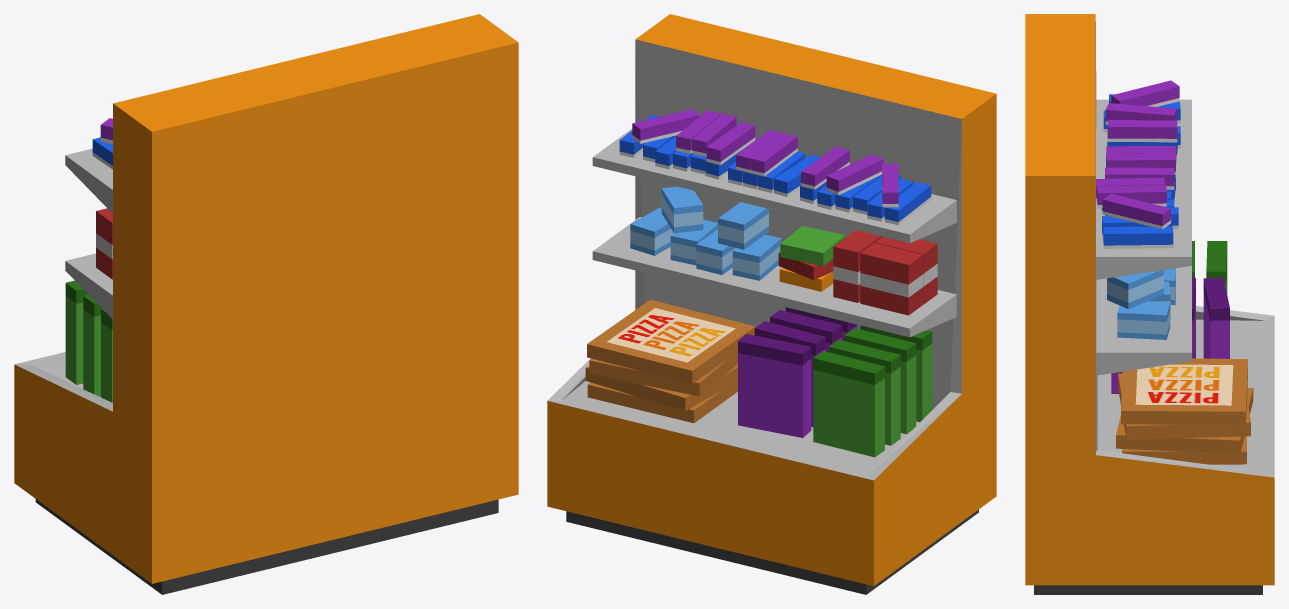
File: Shelf_2.fbx
The picture shows the model from 3 angles, left to right: view 1: azimuth 30°, elevation 25°; view 2: azimuth 150°, elevation 25°; view 3: azimuth 270°, elevation 25°; orthographic projection. The views are drawn at different scales.
Parts seen in each view (by area): view 1: Cube.007; view 2: Cube.007; view 3: Cube.007.
Boxes of the visible parts, x1,y1,x2,y2 form: Cube.007: (14, 14, 518, 594); Cube.007: (547, 14, 996, 594); Cube.007: (1025, 14, 1274, 594).
Bounding box in the file's own units: 807 × 526 × 989.
